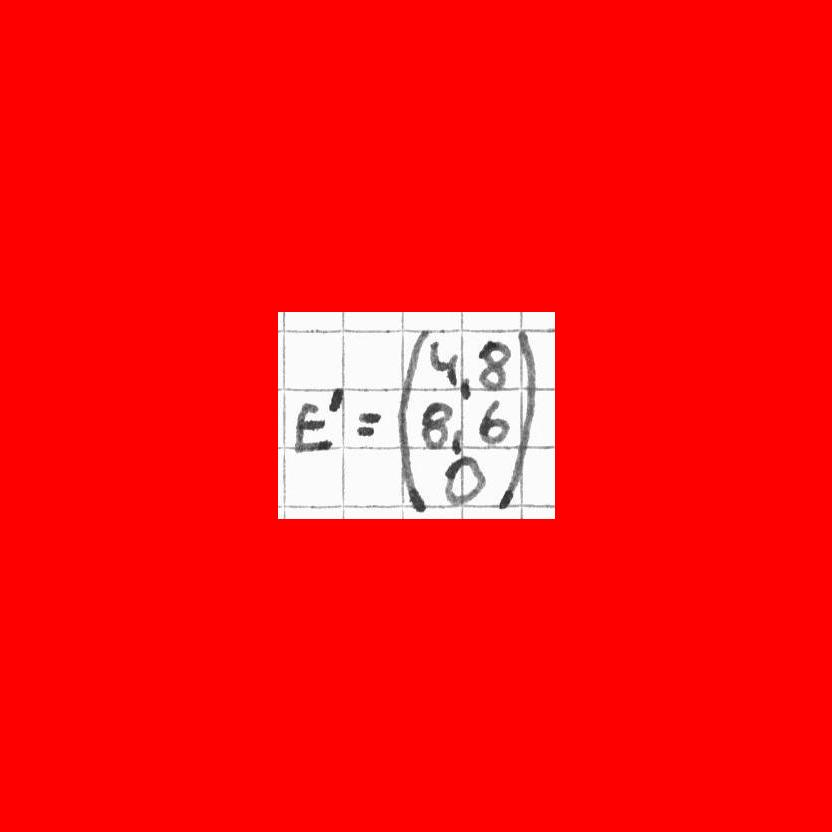Char: (397, 326, 430, 517), (291, 396, 333, 455), (444, 455, 489, 509), (476, 338, 513, 391), (419, 400, 454, 452), (476, 397, 513, 445), (427, 339, 460, 386), (355, 406, 386, 444), (323, 385, 348, 416), (450, 423, 470, 457), (457, 372, 473, 403)
